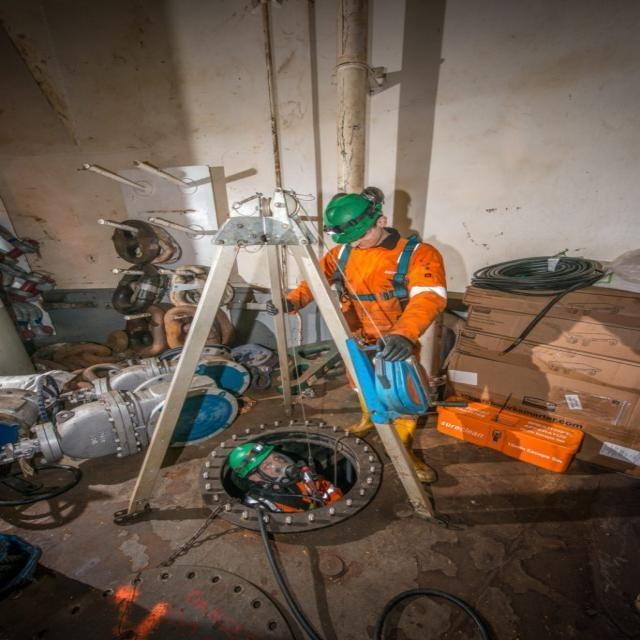Arnes_seguridad: (335, 230, 417, 332)
